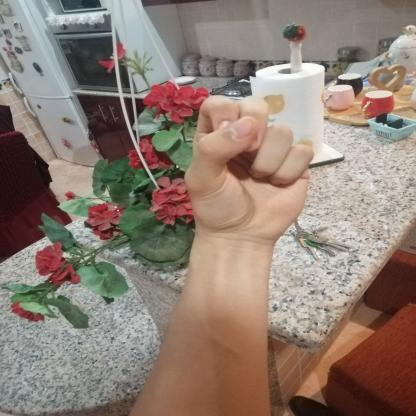QAAF: (167, 81, 323, 252)
